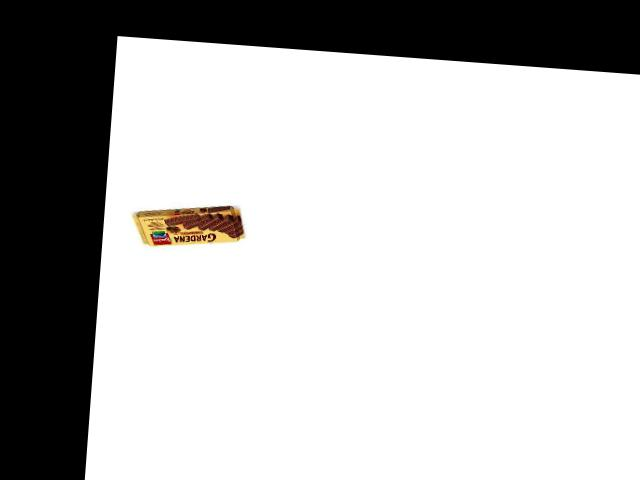chocolate: (126, 202, 252, 254)
